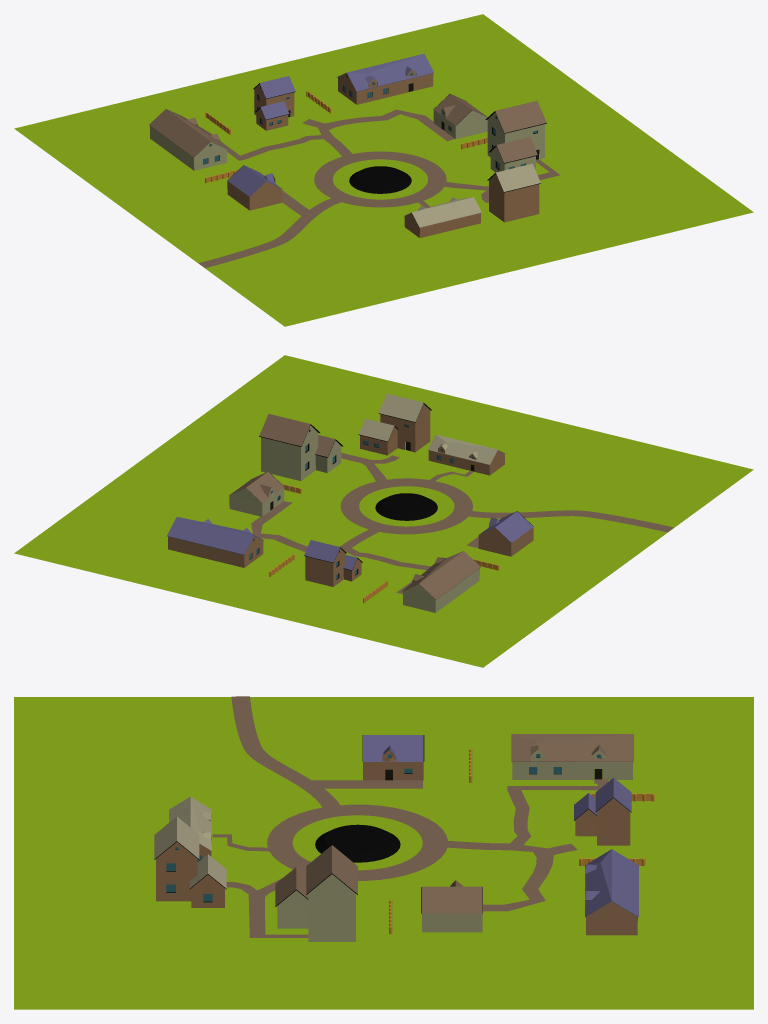
Rendered from Fardigplot.fbx.
3 views of the same model, one above another, from view 1: azimuth 30°, elevation 25°; view 2: azimuth 150°, elevation 25°; view 3: azimuth 270°, elevation 25° (orthographic). The views are drawn at different scales.
Parts seen in each view (by area): view 1: Plane, Plane.002, building_002.002, Väg.001, building_002.005, building_002.009, Plane.003, building_002.004, Plane.001, building_002.001, building_002.003, Circle (+1 smaller); view 2: Plane, Plane.002, building_002.002, Plane.003, Väg.001, building_002.005, building_002.009, building_002.004, Plane.001, building_002.001, building_002.003, Circle (+1 smaller); view 3: Plane, Plane.002, building_002.009, building_002.005, Väg.001, Plane.003, building_002.002, Plane.001, building_002.003, building_002.001, Väg.002, Circle (+1 smaller).
Boxes of the visible parts, left/top/right/bottom form: Plane: left=14, top=14, right=753, bottom=326; Plane.002: left=485, top=100, right=546, bottom=172; building_002.002: left=337, top=53, right=434, bottom=104; Väg.001: left=314, top=151, right=446, bottom=207; building_002.005: left=149, top=109, right=227, bottom=170; building_002.009: left=222, top=109, right=560, bottom=215; Plane.003: left=487, top=163, right=540, bottom=222; building_002.004: left=404, top=197, right=481, bottom=237; Plane.001: left=253, top=76, right=295, bottom=130; building_002.001: left=227, top=165, right=282, bottom=210; building_002.003: left=433, top=94, right=487, bottom=139; Circle: left=349, top=166, right=411, bottom=193; Plane: left=14, top=355, right=753, bottom=667; Plane.002: left=259, top=414, right=343, bottom=480; building_002.002: left=167, top=517, right=263, bottom=567; Plane.003: left=358, top=393, right=431, bottom=455; Väg.001: left=340, top=478, right=472, bottom=534; building_002.005: left=402, top=551, right=480, bottom=612; building_002.009: left=251, top=453, right=478, bottom=594; building_002.004: left=428, top=434, right=505, bottom=475; Plane.001: left=304, top=540, right=362, bottom=586; building_002.001: left=478, top=511, right=533, bottom=556; building_002.003: left=229, top=471, right=284, bottom=516; Circle: left=375, top=493, right=437, bottom=520; Plane: left=14, top=697, right=753, bottom=1009; Plane.002: left=275, top=845, right=357, bottom=941; building_002.009: left=212, top=779, right=608, bottom=937; building_002.005: left=511, top=734, right=633, bottom=779; Väg.001: left=267, top=804, right=447, bottom=880; Plane.003: left=154, top=816, right=226, bottom=907; building_002.002: left=585, top=849, right=638, bottom=935; Plane.001: left=574, top=777, right=631, bottom=845; building_002.003: left=421, top=880, right=482, bottom=932; building_002.001: left=362, top=735, right=424, bottom=780; Väg.002: left=231, top=696, right=339, bottom=807; Circle: left=315, top=824, right=400, bottom=862.
Bounding box in the file's own units: 42.99 × 4.47 × 42.96.
